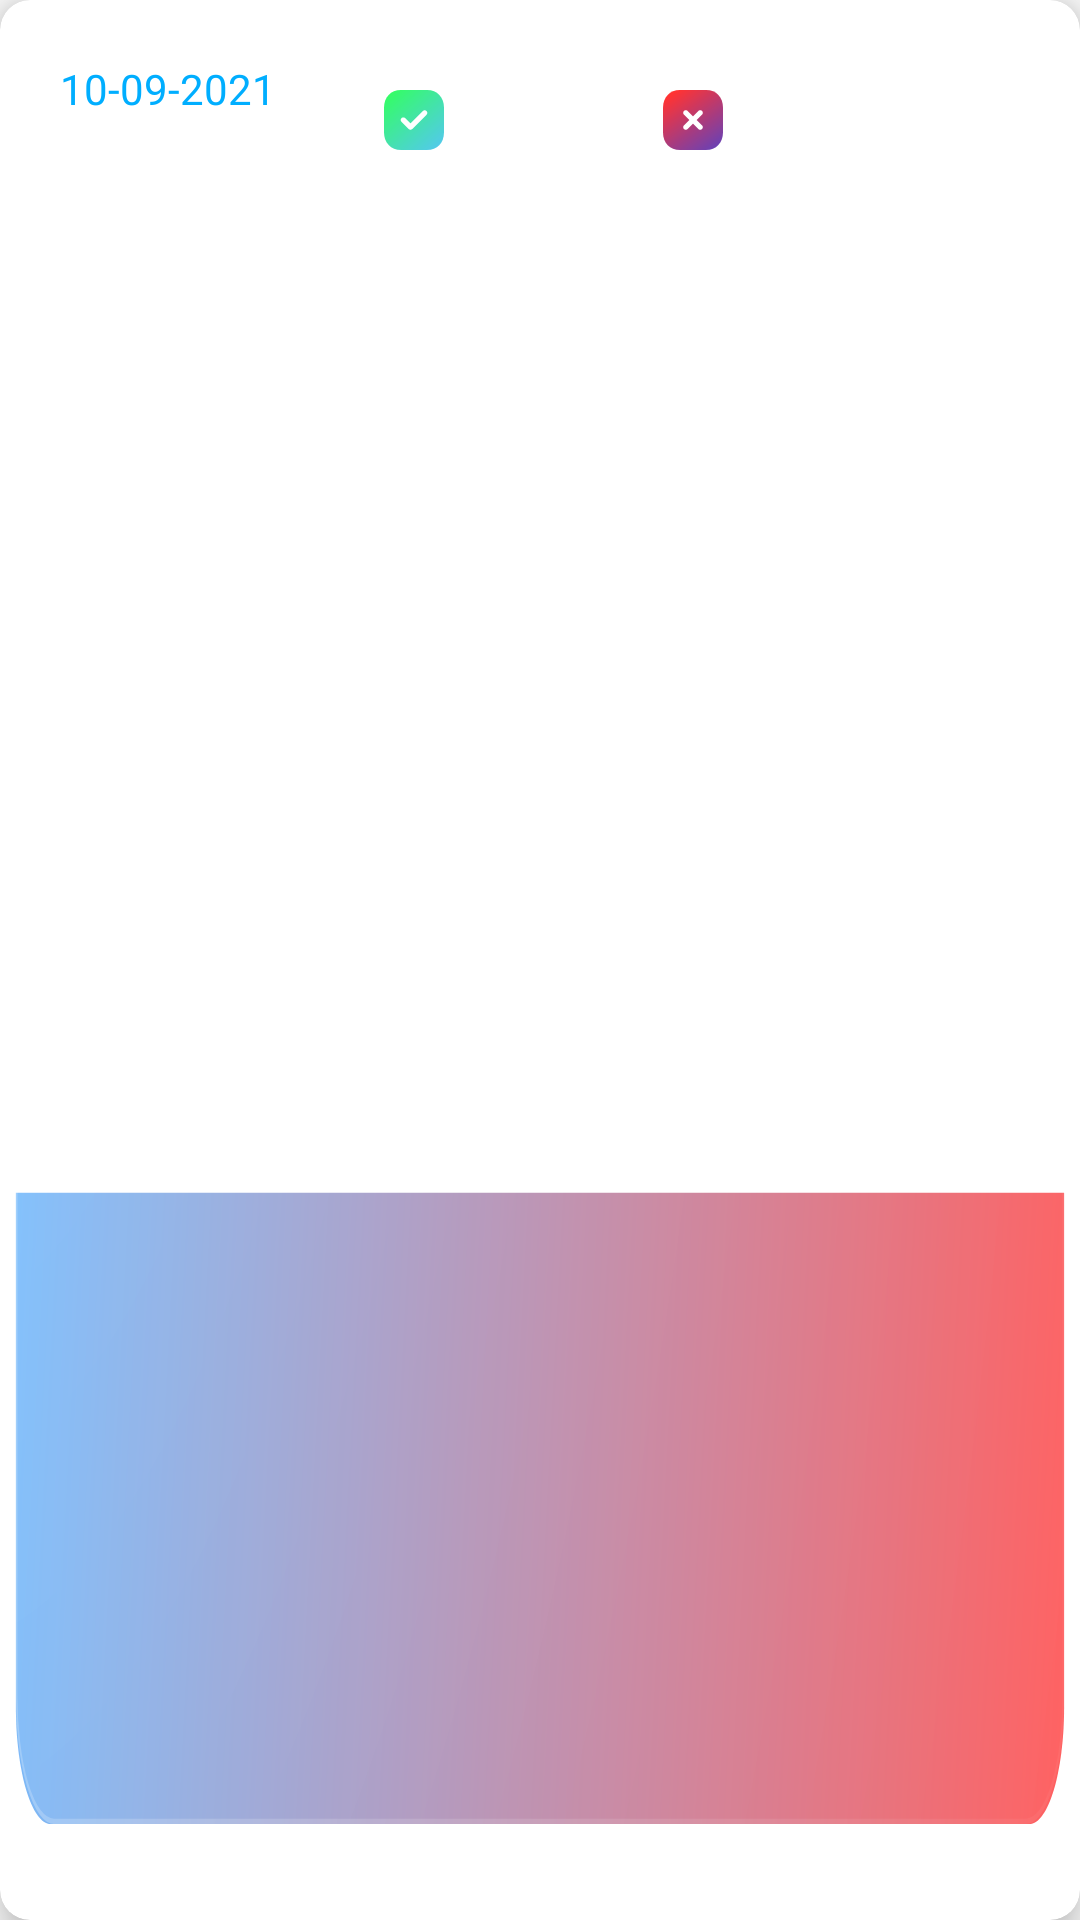

Icons on this 1080x1920 Android screen, each with its box as bbox(x1, y1, x2, y2):
approve: bbox(384, 90, 444, 150)
deny: bbox(663, 90, 723, 150)
